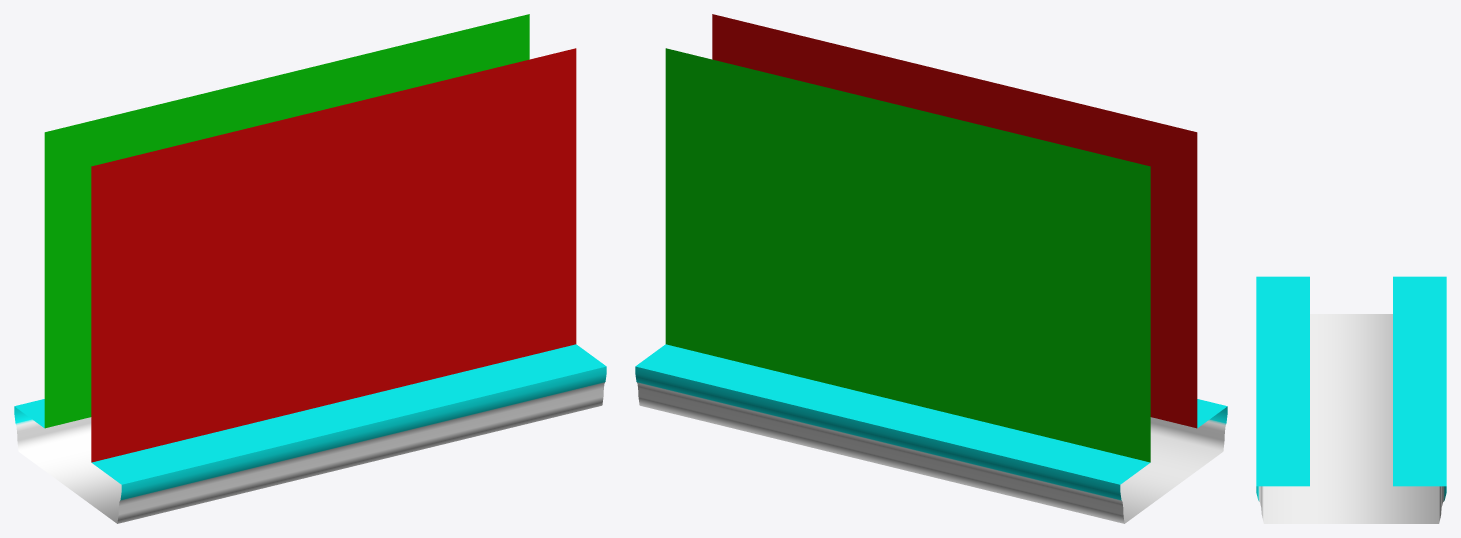
The model's file is SM_FriezeArchDualOpenSide3m.fbx.
3 renders of one model, left to right at view 1: azimuth 30°, elevation 25°; view 2: azimuth 150°, elevation 25°; view 3: azimuth 270°, elevation 25°, orthographic. The views are drawn at different scales.
Parts seen in each view (by area): view 1: SM_FriezeArchDualOpenSide3m; view 2: SM_FriezeArchDualOpenSide3m; view 3: SM_FriezeArchDualOpenSide3m.
Part boxes in pixels (left/top/right/bottom): SM_FriezeArchDualOpenSide3m: left=14, top=14, right=606, bottom=523; SM_FriezeArchDualOpenSide3m: left=635, top=14, right=1227, bottom=523; SM_FriezeArchDualOpenSide3m: left=1256, top=276, right=1446, bottom=523.
Bounding box in the file's own units: 300 × 200 × 115.
